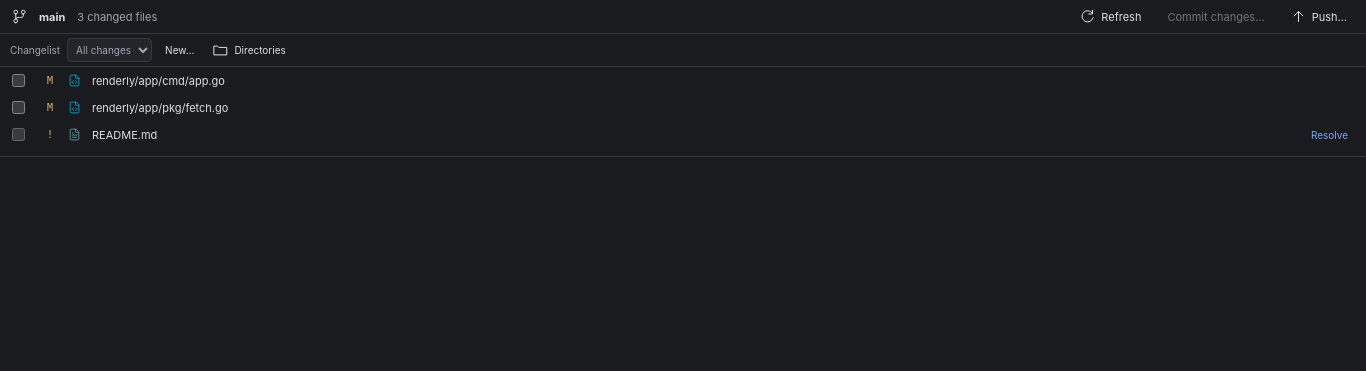
Scenario: offers conflict resolution and prevents editing conflicted files from the menu
Right-click the button titled "README.md" at (125, 134), box top-left (28, 121), bottom-right (1301, 148)
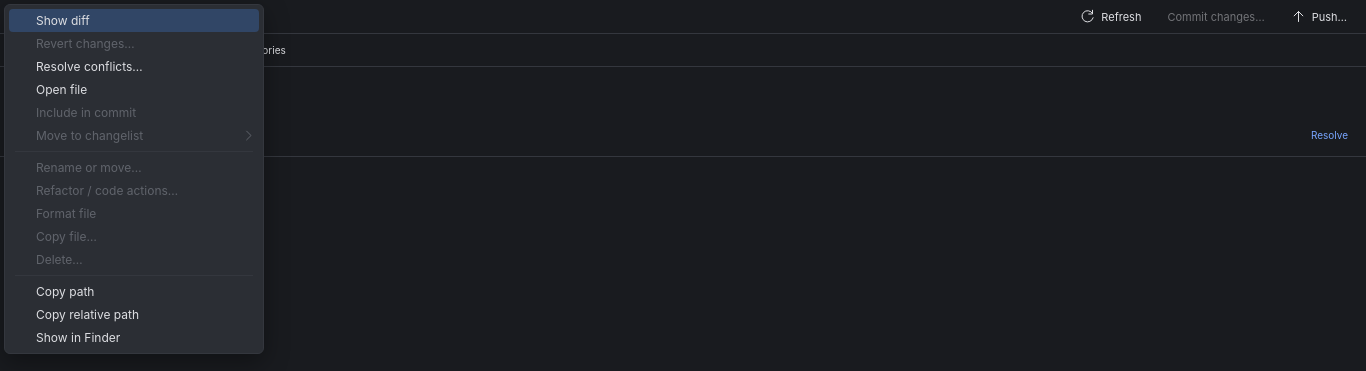
Now the menu item "Resolve conflicts…" is shown, box top-left (9, 55), bottom-right (259, 78)
Now the menu item "Include in commit" is disabled, box top-left (9, 101), bottom-right (259, 124)
Now the menu item "Rename or move…" is disabled, box top-left (9, 156), bottom-right (259, 179)
